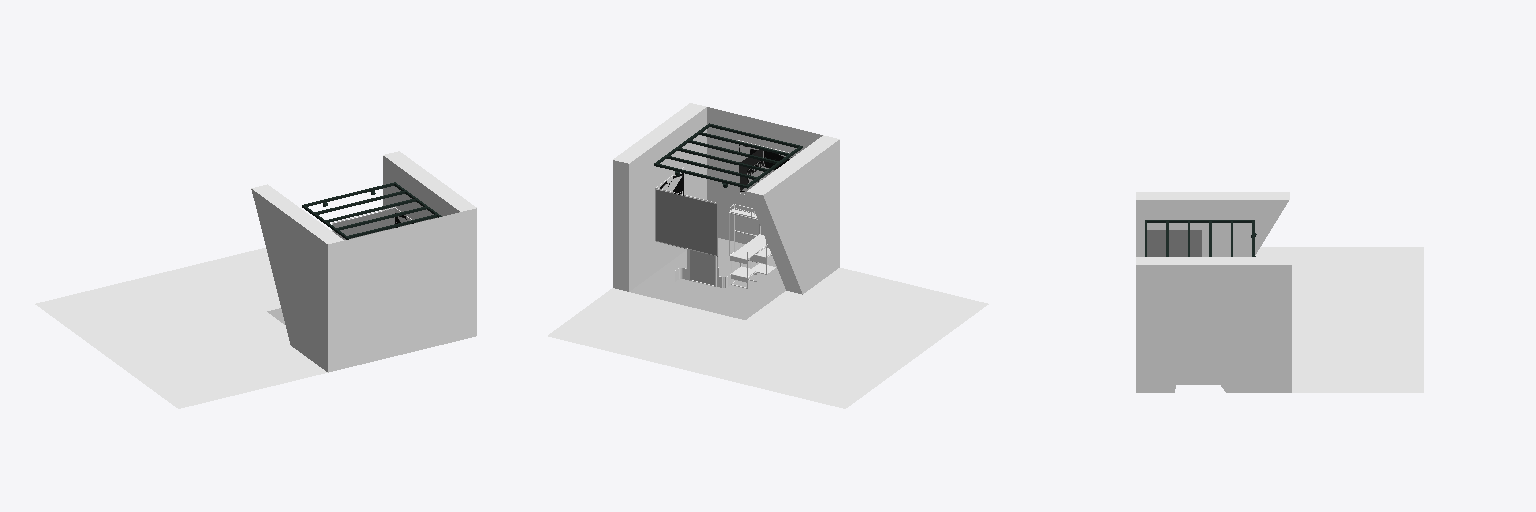
3 views of the same model, side by side, from view 1: azimuth 30°, elevation 25°; view 2: azimuth 150°, elevation 25°; view 3: azimuth 270°, elevation 25° (orthographic).
Visible parts, largest first — view 1: Plane, Plane.3, Plane.1_1, Plane.5, Plane.1, Cube.3_1; view 2: Plane, Plane.1_1, Plane.5, Plane.1, Plane.3, Plane_1, Cube.3_1, Cube.1, 350mWall_cover; view 3: Plane.5, Plane, Plane.1, Plane.1_1, Cube.
Boxes of the visible parts, <box> form: Plane: <box>35,263,327,408</box>; Plane.3: <box>345,212,460,367</box>; Plane.1_1: <box>251,184,344,372</box>; Plane.5: <box>383,151,476,339</box>; Plane.1: <box>201,248,280,311</box>; Cube.3_1: <box>333,209,394,239</box>; Plane: <box>680,268,988,408</box>; Plane.1_1: <box>747,135,839,294</box>; Plane.5: <box>613,103,706,291</box>; Plane.1: <box>548,288,744,368</box>; Plane.3: <box>707,107,822,247</box>; Plane_1: <box>630,238,785,319</box>; Cube.3_1: <box>656,189,717,256</box>; Cube.1: <box>739,145,791,194</box>; 350mWall_cover: <box>690,250,714,285</box>; Plane.5: <box>1136,257,1291,392</box>; Plane: <box>1255,247,1423,327</box>; Plane.1: <box>1292,328,1423,392</box>; Plane.1_1: <box>1136,192,1289,256</box>; Cube: <box>1147,230,1201,256</box>.
Size of the model in its own units: 1440 by 590 by 1200.
Materials: 13 (2 with a texture image).